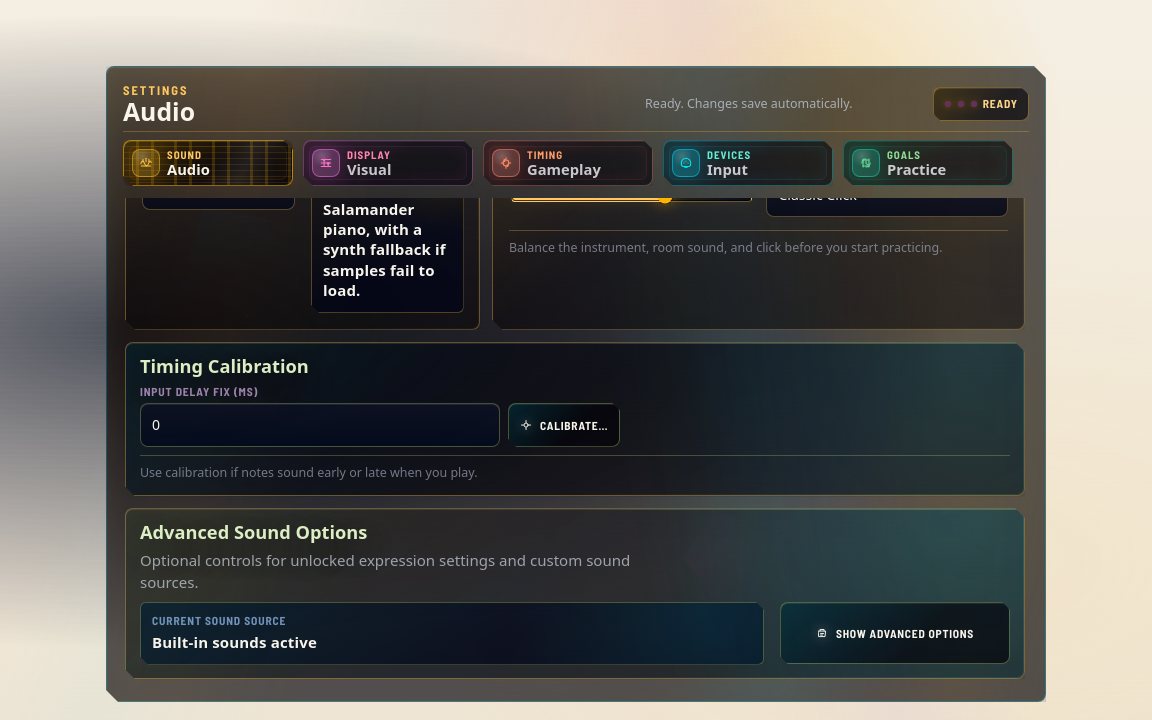
it: SettingsScreen › keeps advanced audio controls hidden until requested
This screenshot has width=1152, height=720.
(page scrolled)
expect the field labelled "Acoustic Piano Reverb Shape" is not shown: met
Click the button "Show Advanced Options" at (895, 633), box [780, 602, 1010, 664]
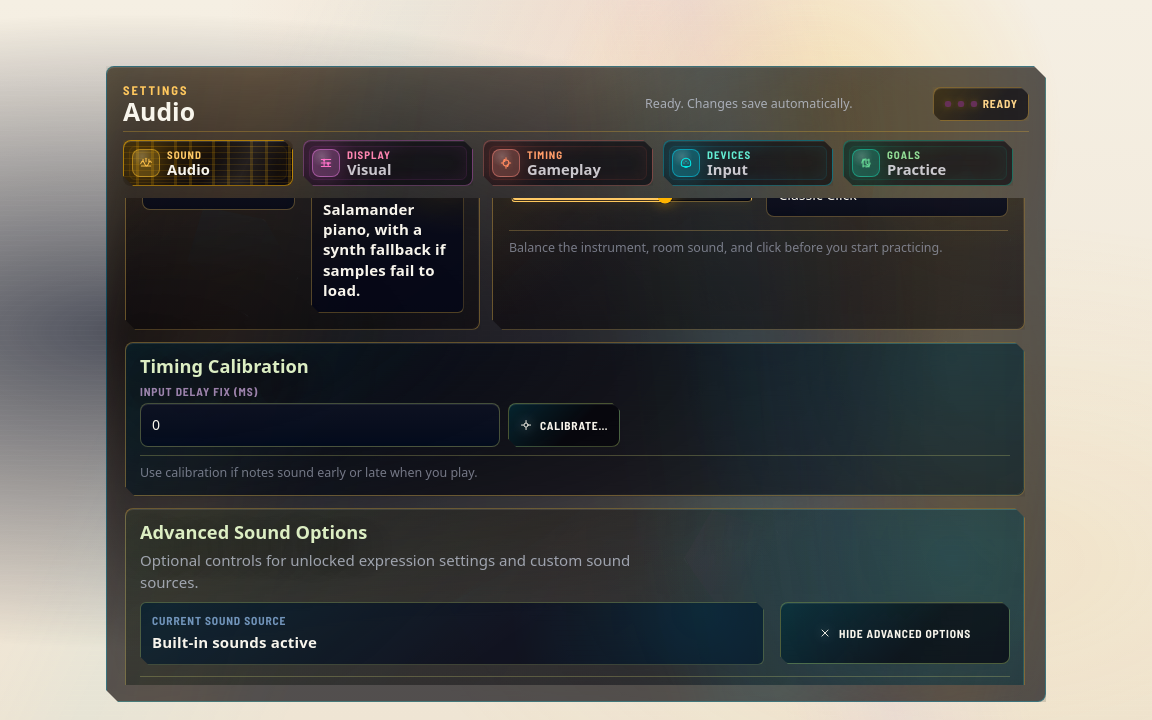
expect the button "Hide Advanced Options" is expanded: met, box [780, 602, 1010, 664]
